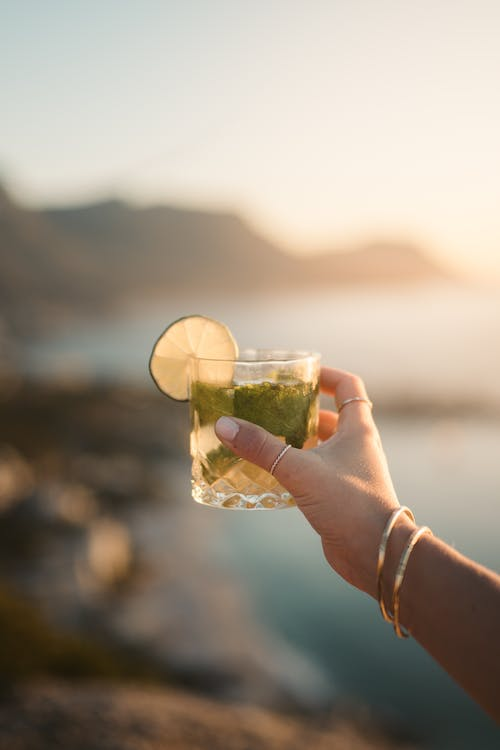alcohol: (189, 346, 323, 512)
